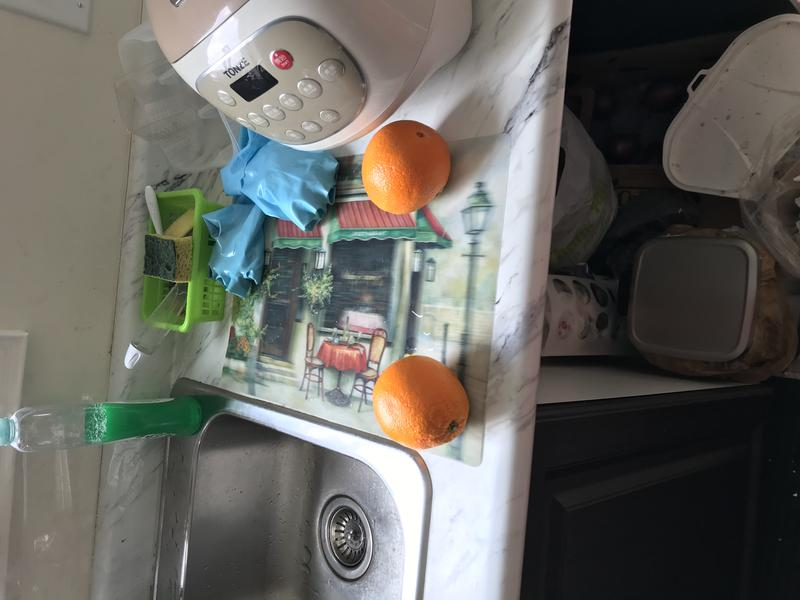orange: (369, 353, 479, 457), (356, 116, 458, 220)
